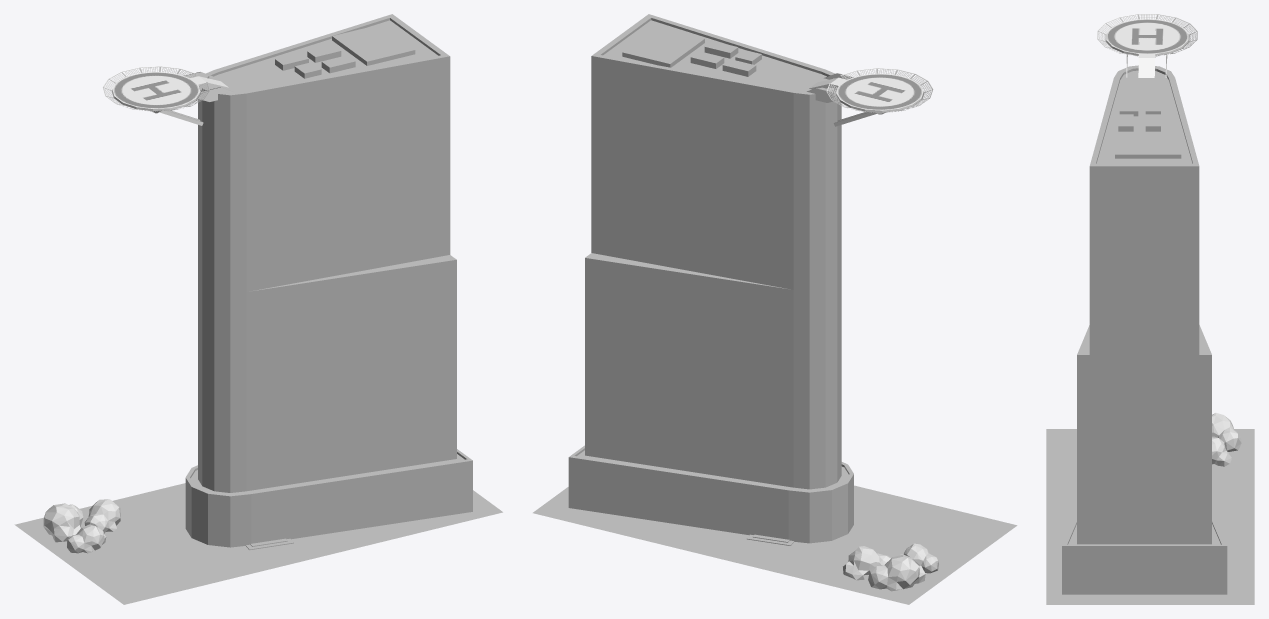
Rendered from Villa_Huge.fbx.
3 renders of one model, left to right at view 1: azimuth 30°, elevation 25°; view 2: azimuth 150°, elevation 25°; view 3: azimuth 270°, elevation 25°, orthographic. The views are drawn at different scales.
Visible parts, largest first — view 1: Villa_Huge, Villa_Huge_BG, HelicopterPlace, Villa_Huge_Bush, HelicopterPlace_Alpha_DoubleSided; view 2: Villa_Huge, Villa_Huge_BG, HelicopterPlace, Villa_Huge_Bush, HelicopterPlace_Alpha_DoubleSided; view 3: Villa_Huge, Villa_Huge_BG, HelicopterPlace, Villa_Huge_Bush, HelicopterPlace_Alpha_DoubleSided.
Boxes of the visible parts, x1,y1,x2,y2 form: Villa_Huge: [185, 14, 472, 550]; Villa_Huge_BG: [14, 483, 502, 604]; HelicopterPlace: [112, 72, 233, 125]; Villa_Huge_Bush: [43, 499, 120, 553]; HelicopterPlace_Alpha_DoubleSided: [102, 66, 209, 111]; Villa_Huge: [568, 14, 853, 545]; Villa_Huge_BG: [533, 485, 1017, 604]; HelicopterPlace: [807, 73, 923, 126]; Villa_Huge_Bush: [843, 543, 938, 591]; HelicopterPlace_Alpha_DoubleSided: [826, 68, 933, 113]; Villa_Huge: [1062, 65, 1227, 594]; Villa_Huge_BG: [1046, 429, 1254, 604]; HelicopterPlace: [1106, 19, 1188, 77]; Villa_Huge_Bush: [1212, 413, 1241, 466]; HelicopterPlace_Alpha_DoubleSided: [1097, 14, 1197, 56].
Size of the model in its own units: 4000 by 4594 by 2000.
